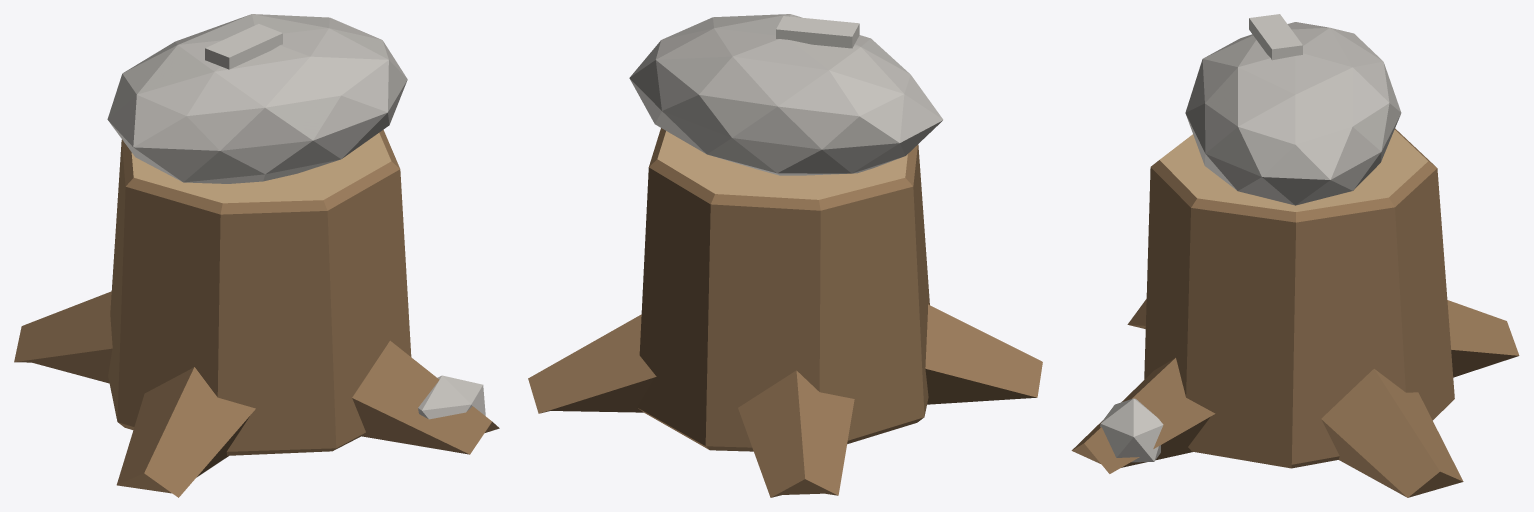
Rendered from asset_anvil_idle.glb.
3 renders of one model, left to right at view 1: azimuth 30°, elevation 25°; view 2: azimuth 150°, elevation 25°; view 3: azimuth 270°, elevation 25°, orthographic.
Visible parts, largest first — view 1: asset_anvil_idle; view 2: asset_anvil_idle; view 3: asset_anvil_idle.
Boxes of the visible parts, bbox=[...] form: asset_anvil_idle: bbox=[14, 14, 499, 497]; asset_anvil_idle: bbox=[528, 14, 1042, 497]; asset_anvil_idle: bbox=[1071, 14, 1519, 497].
Size of the model in its own units: 0.6924 by 0.62 by 0.6924.
